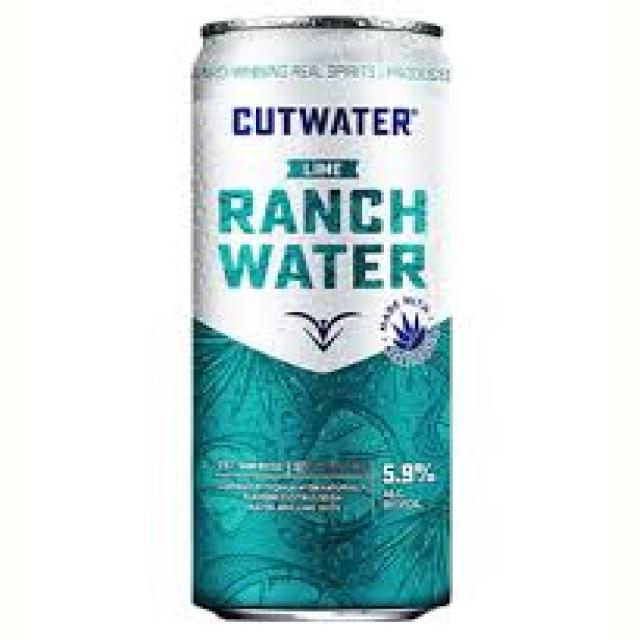Cans: (168, 5, 484, 640)
